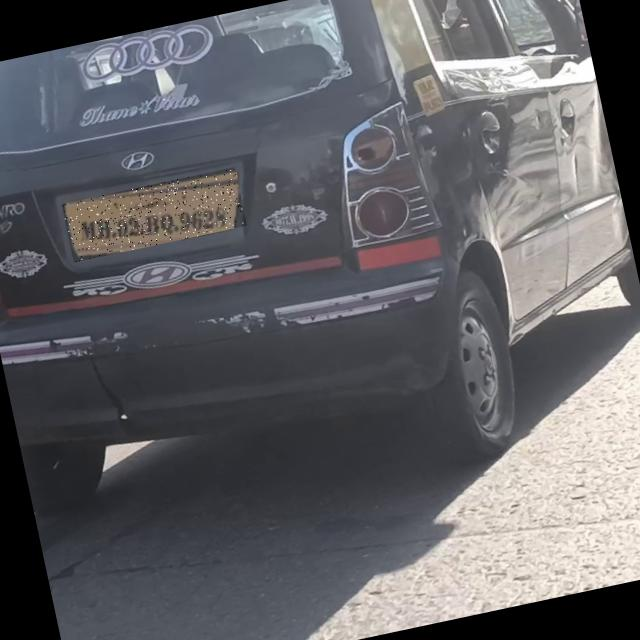Plate: (62, 168, 248, 263)
